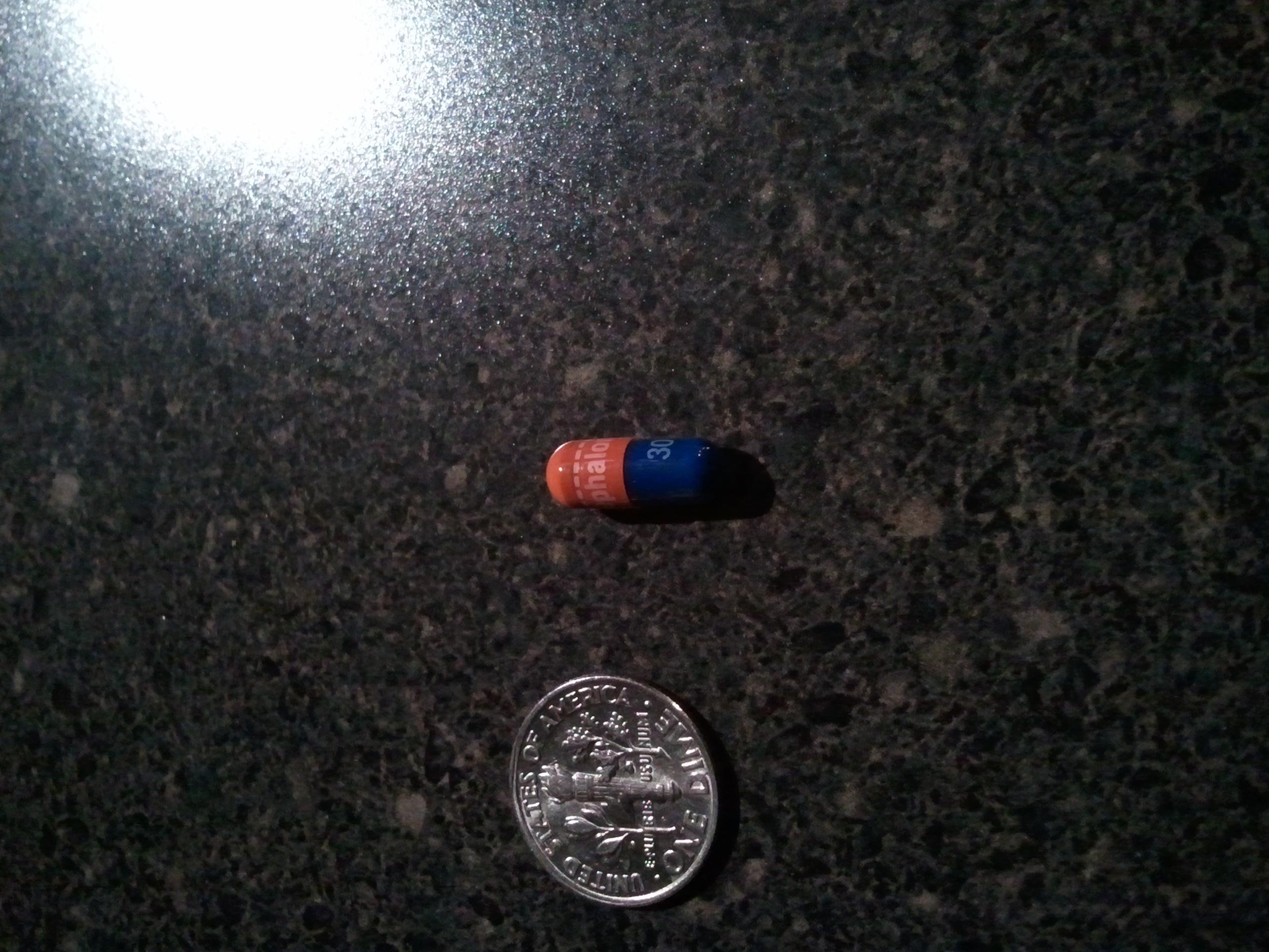Pill: (525, 424, 754, 530)
